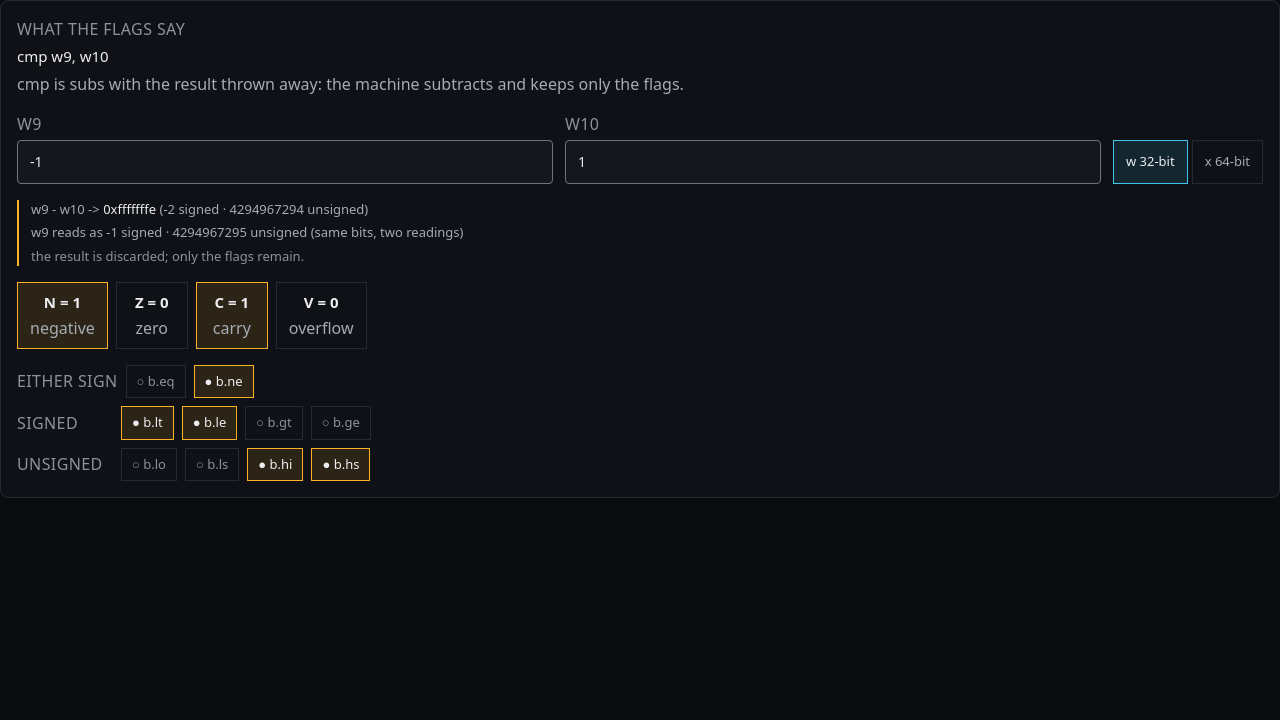
Test: FlagEffect › shows the input hint instead of verdicts on a non-number
Replace the text in the field labelled "w9" with "ten": {"x": 285, "y": 162} [17,140,553,184]
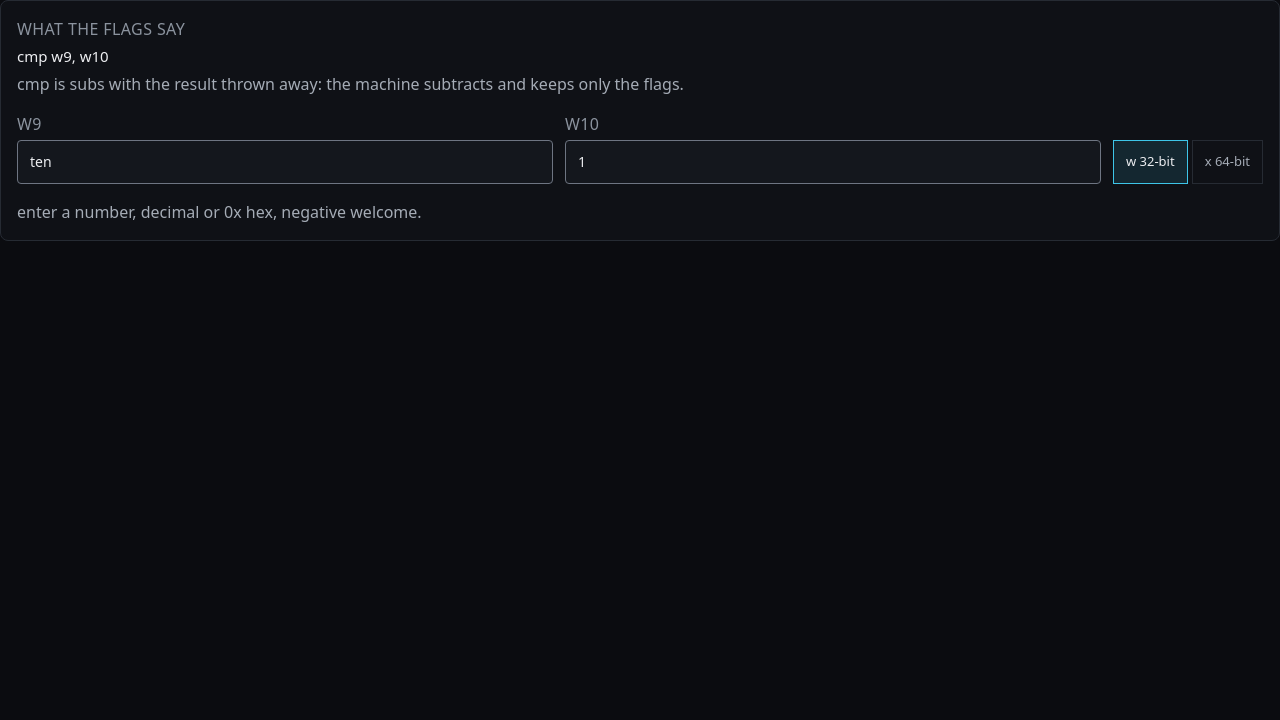
Check: the text "enter a number, decimal or 0x hex, negative welcome." is shown, box [17,200,422,222]
